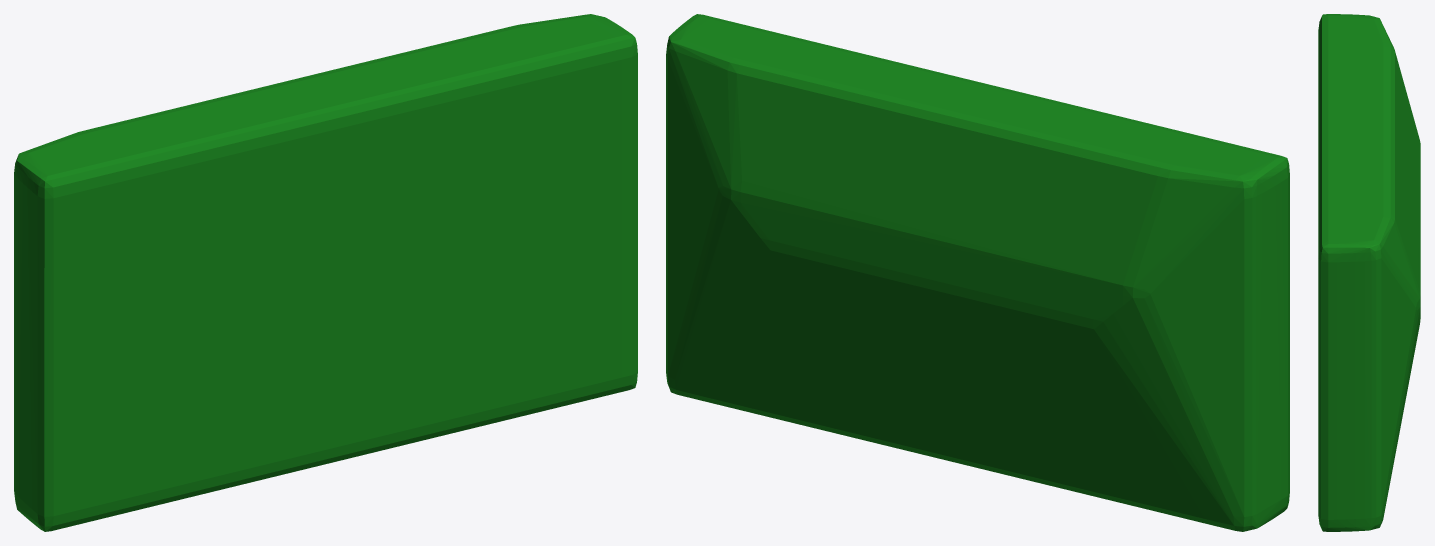
File: pelvis_part_8.obj
3 views of the same model, side by side, from view 1: azimuth 30°, elevation 25°; view 2: azimuth 150°, elevation 25°; view 3: azimuth 270°, elevation 25° (orthographic). The views are drawn at different scales.
Bounding box in the file's own units: 0.1403 × 0.0792 × 0.0256.
